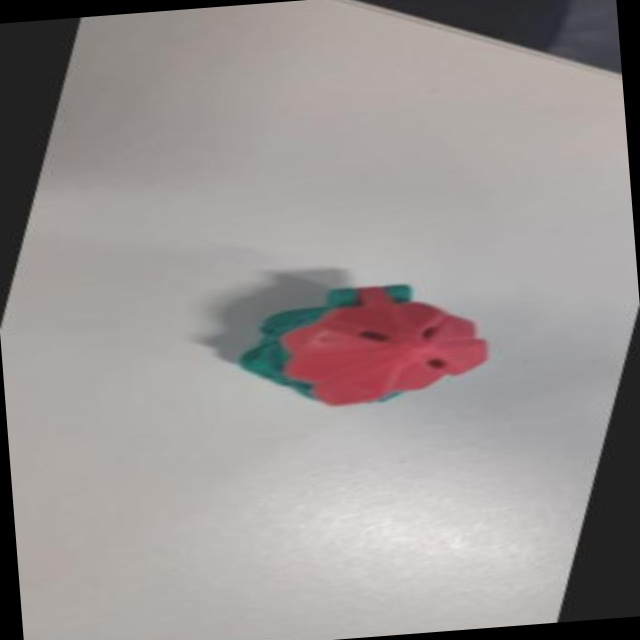House: (202, 263, 522, 427)
